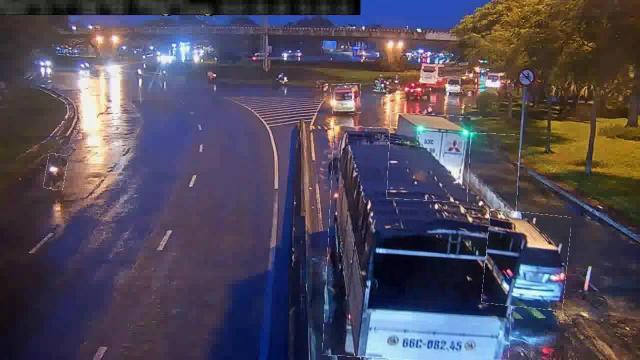Bike: (45, 154, 67, 190)
Bus: (331, 84, 361, 114)
Car: (483, 211, 569, 309)
Truck: (326, 128, 518, 360), (388, 114, 470, 200)
